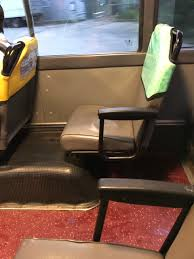seat: (76, 47, 165, 158)
